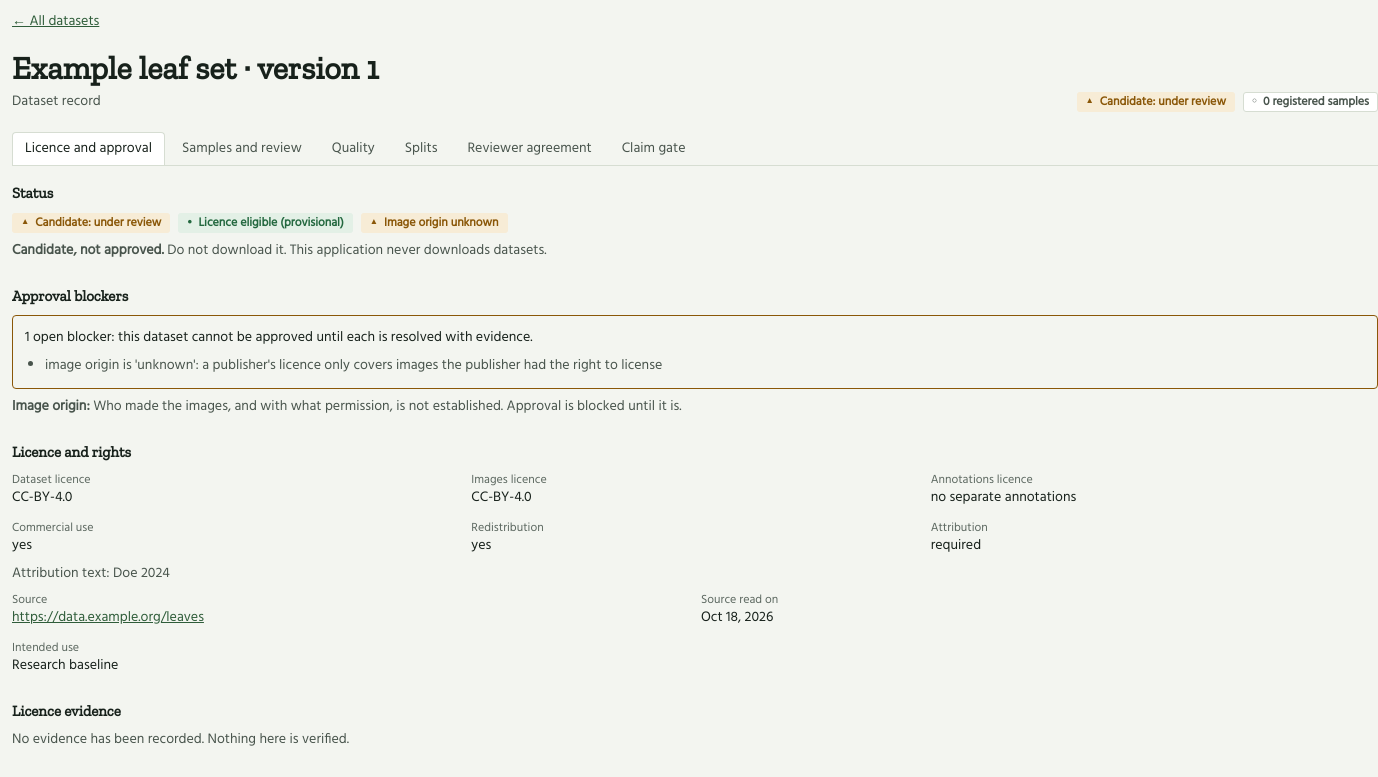
Scenario: dataset detail: quality, splits, agreement and claims › shows Cohen’s kappa only when computed, and with its caveats
What coordinates should you click on to do the following:
click the tab "Reviewer agreement"
I would click on:
 (530, 148)
Its box is x1=454 y1=132 x2=605 y2=165.
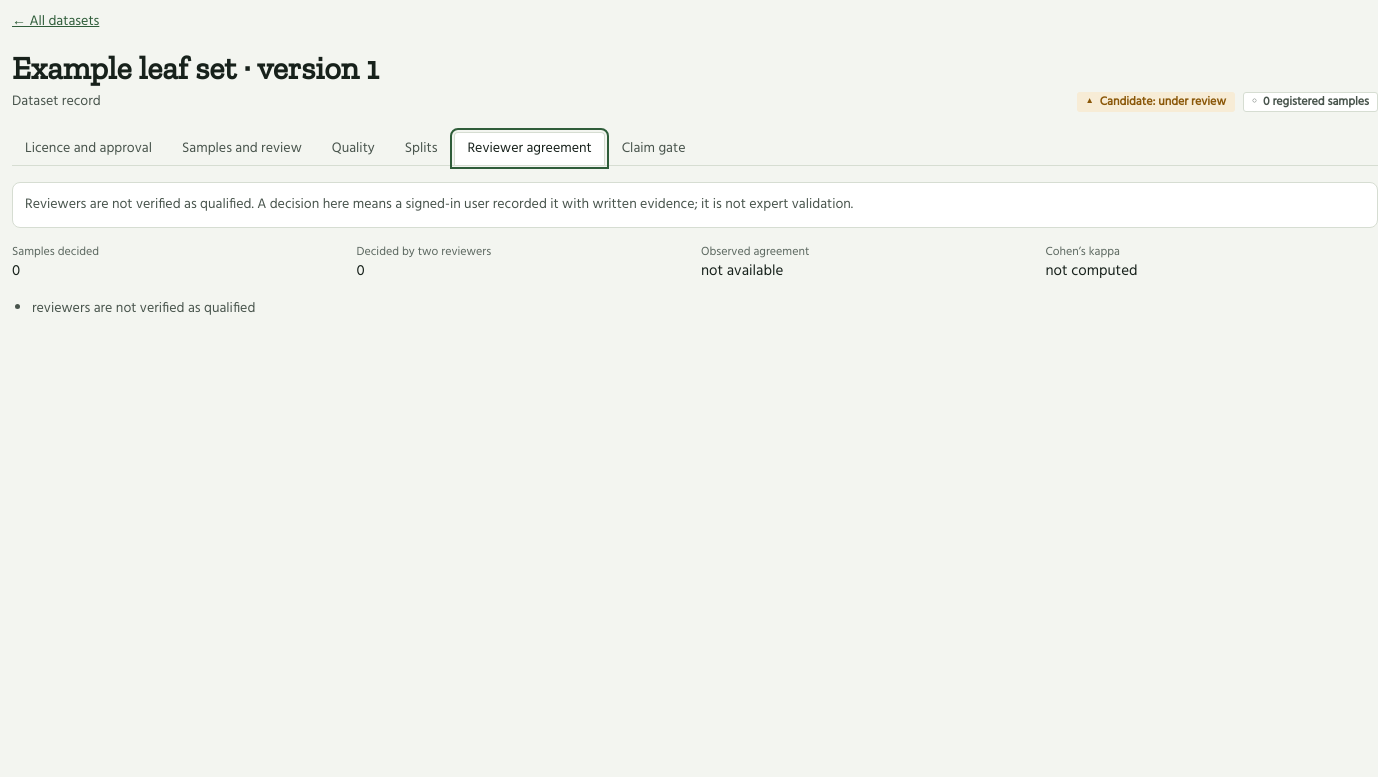
Expected: the text "not computed" is shown, x1=1046 y1=259 x2=1138 y2=283
Expected: the text "not available" is shown, x1=701 y1=259 x2=783 y2=283
Expected: the text "not verified as qualified" is shown, x1=25 y1=193 x2=853 y2=216
